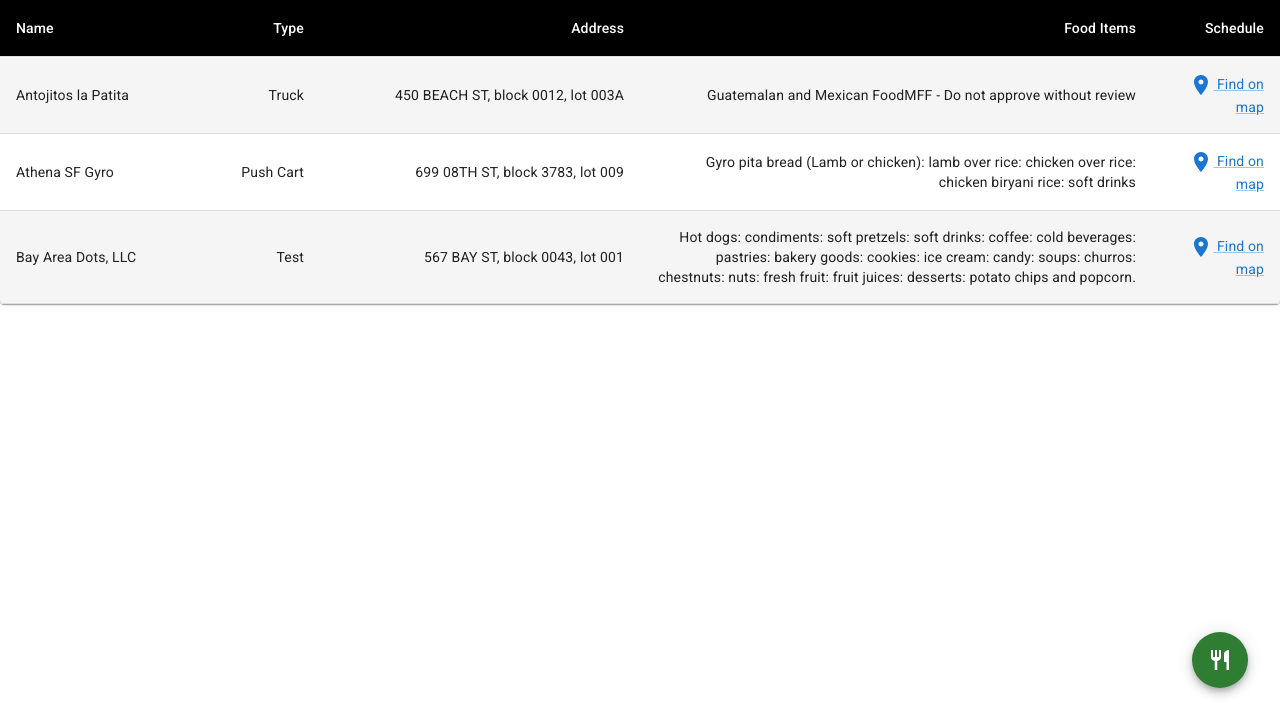
Test: FoodFacilitiesList component › renders content correctly when api successfully returns data
Check: the column heading "Name" is shown, box [0,0,192,57]
Check: the column heading "Type" is shown, box [192,0,320,57]
// randomizer button & tooltip
Hover over the button with test id "randomizer-button": (1220, 660) [1192,632,1248,688]
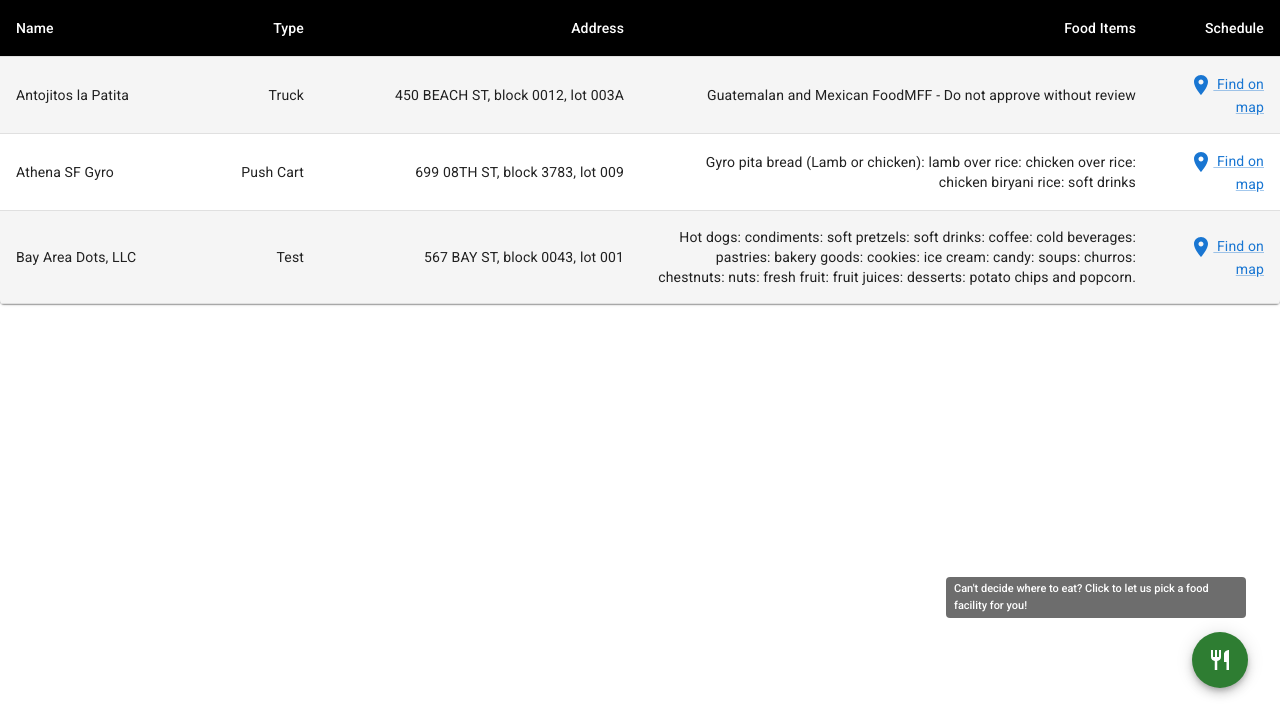
Check: the text "Can't decide where to eat? Click to let us pick a food facility for you!" is shown, box [946,577,1246,618]
